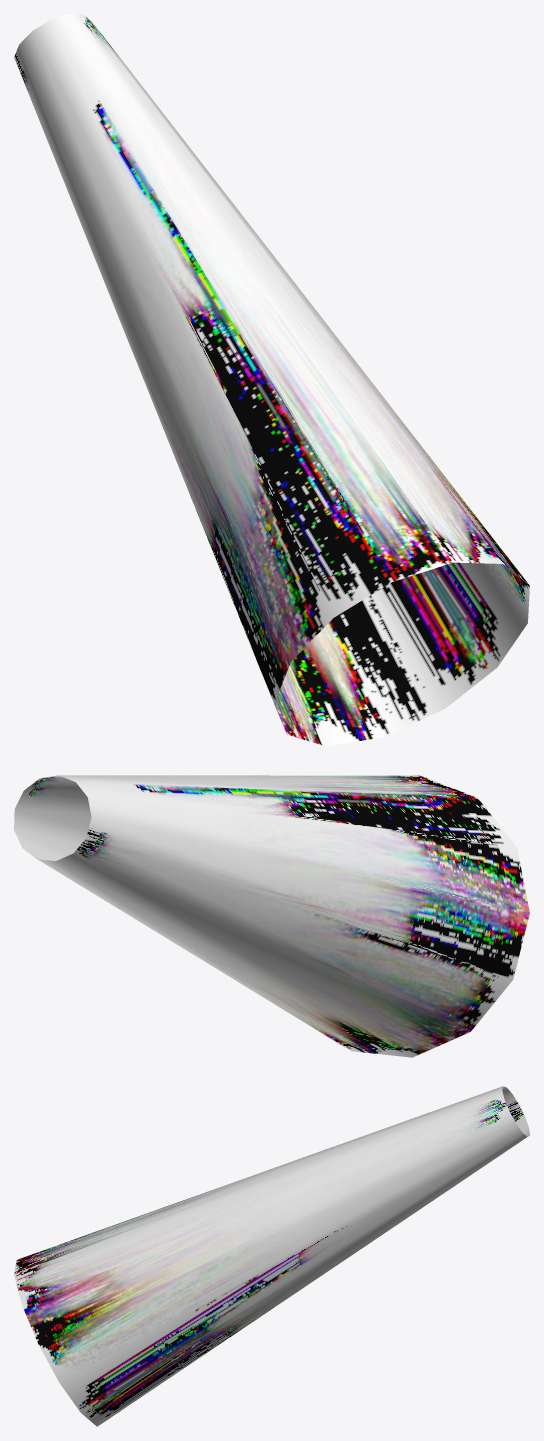
File: SunShaft_Mesh.FBX
The picture shows the model from 3 angles, top to bottom: view 1: azimuth 30°, elevation 25°; view 2: azimuth 150°, elevation 25°; view 3: azimuth 270°, elevation 25°; orthographic projection. The views are drawn at different scales.
Visible parts, largest first — view 1: Cylinder002; view 2: Cylinder002; view 3: Cylinder002.
Boxes of the visible parts, x1,y1,x2,y2 form: Cylinder002: (14,14,529,746); Cylinder002: (14,775,529,1057); Cylinder002: (14,1086,529,1426).
Size of the model in its own units: 9.25 by 18.11 by 25.84.
